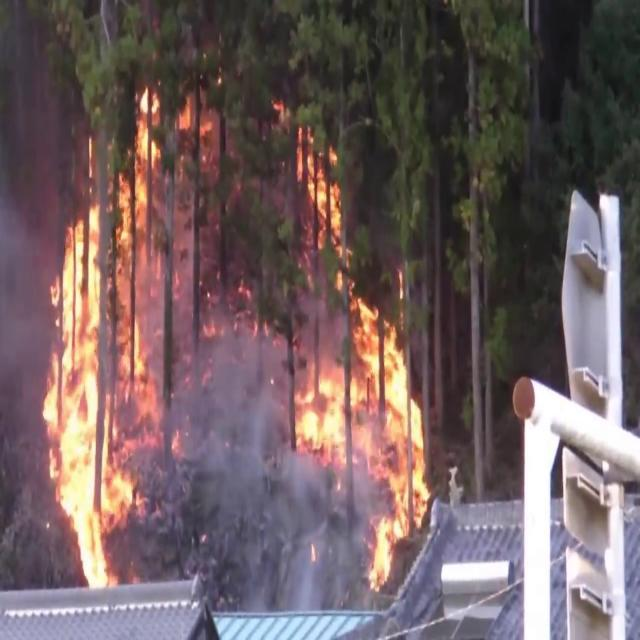Fire: (32, 104, 180, 588), (284, 148, 436, 586)
Smoke: (156, 294, 320, 606)
